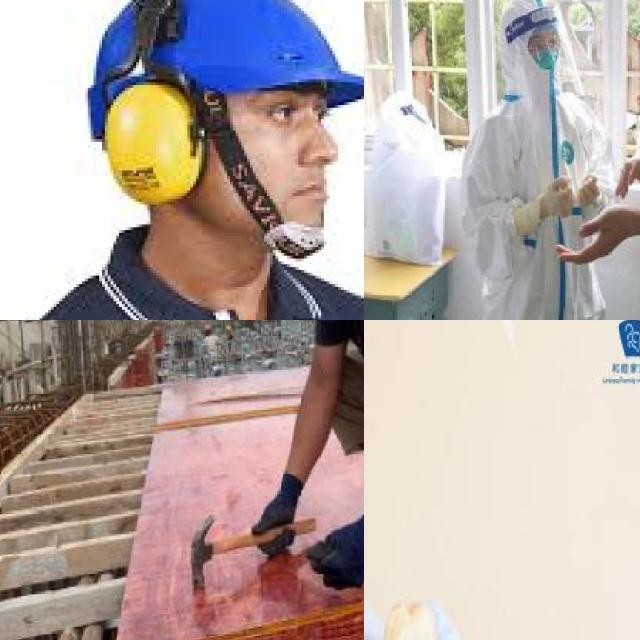Ear-protection: (99, 74, 207, 204)
hand_glove: (306, 514, 364, 593), (249, 482, 300, 559), (540, 176, 574, 220), (577, 174, 600, 209)
hand_noglove: (556, 205, 631, 265), (614, 151, 640, 202)
head_helmet: (62, 0, 364, 96)
head_nohelmet: (503, 0, 566, 46)
person: (435, 6, 635, 320), (184, 320, 364, 585), (364, 320, 459, 640)
